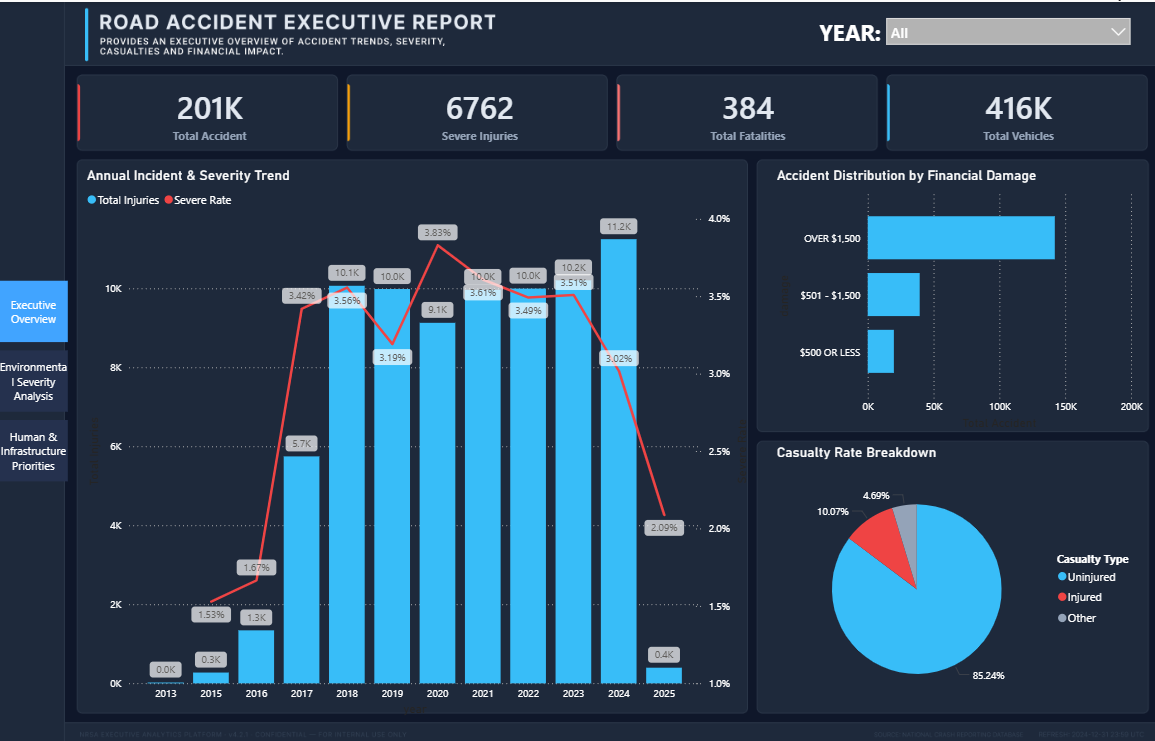

Layout of this report page (visuals, bound fields, positions):
{"tool":"powerbi","page":{"name":"Report 1","canvas":[1500,1500],"ordinal":0},"visuals":[{"type":"textbox","box":[9.6,0,279.9,41.2],"z":0},{"type":"textbox","box":[193.3,20,1113.3,120],"z":1000},{"type":"shape","box":[35,175,631.7,296.7],"z":2000},{"type":"cardVisual","fields":{"Data":["Sum(Query1.Injury Total)"]},"box":[55.1,254.9,198.3,126.7],"z":3000},{"type":"cardVisual","fields":{"Data":["Sum(Query1.Num units)"]},"box":[253.4,254.9,193.3,126.7],"z":4000},{"type":"lineStackedColumnComboChart","title":"Biểu đồ phân tích số vụ tai nạn và số phương tiện trong từng năm","fields":{"Category":["Query1.year"],"Y":["Sum(Query1.Injury Total)"],"Y2":["Sum(Query1.Num units)"]},"box":[721.7,175,728.3,296.7],"z":5000},{"type":"pieChart","title":"Biểu đồ thống kê số vụ tai nạn theo vụ va chạm tổng thể","fields":{"Y":["Sum(Query1.Number of Accident)"],"Category":["Query1.Crash Type"]},"box":[36.7,565,631.7,368.3],"z":6000},{"type":"clusteredBarChart","title":"Biểu đồ phân tích số vụ tai nạn và phương tiện theo các mức độ thiệt hại","fields":{"Category":["Query1.Damage Extension"],"Y":["Sum(Query1.Number of Accident)","Sum(Query1.Num units)"]},"box":[721.7,565,728.3,368.3],"z":7000},{"type":"pivotTable","title":"Bảng phân tích các vụ va chạm trong từng năm","fields":{"Rows":["Query1.year"],"Columns":["Query1.First Crash Type"],"Values":["Sum(Query1.Injury Total)","Sum(Query1.Number of Accident)"]},"box":[43.3,996.7,1413.3,468.3],"z":8000},{"type":"cardVisual","fields":{"Data":["Sum(Query1.Number of Accident)"]},"box":[446.8,254.9,193.3,126.7],"z":9000}]}

Visuals, with their boxes on the page's 1500x1500 design canvas (x1, y1, x2, y2). These are canvas units, not pixel positions in the 1155x741 screenshot, which may show the page scaled, cropped or inside an application window:
textbox: rect(10, 0, 290, 41)
textbox: rect(193, 20, 1307, 140)
shape: rect(35, 175, 667, 472)
cardVisual - Sum(Query1.Injury Total): rect(55, 255, 253, 382)
cardVisual - Sum(Query1.Num units): rect(253, 255, 447, 382)
"Biểu đồ phân tích số vụ tai nạn và số phương tiện trong từng năm" lineStackedColumnComboChart: rect(722, 175, 1450, 472)
"Biểu đồ thống kê số vụ tai nạn theo vụ va chạm tổng thể" pieChart: rect(37, 565, 668, 933)
"Biểu đồ phân tích số vụ tai nạn và phương tiện theo các mức độ thiệt hại" clusteredBarChart: rect(722, 565, 1450, 933)
"Bảng phân tích các vụ va chạm trong từng năm" pivotTable: rect(43, 997, 1457, 1465)
cardVisual - Sum(Query1.Number of Accident): rect(447, 255, 640, 382)
